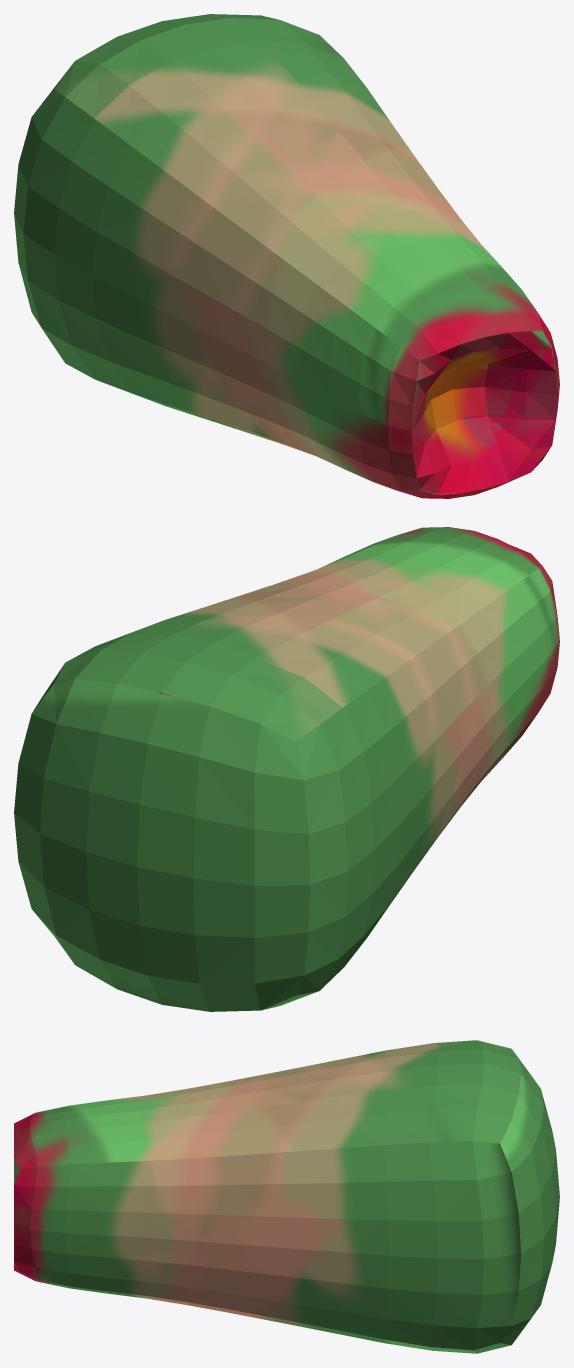
Rendered from tower.obj.
The picture shows the model from 3 angles, top to bottom: view 1: azimuth 30°, elevation 25°; view 2: azimuth 150°, elevation 25°; view 3: azimuth 270°, elevation 25°; orthographic projection. The views are drawn at different scales.
Parts seen in each view (by area): view 1: Cube; view 2: Cube; view 3: Cube.
Boxes of the visible parts, bbox=[...] form: Cube: bbox=[14, 14, 559, 498]; Cube: bbox=[14, 527, 559, 1011]; Cube: bbox=[14, 1040, 559, 1353].
Size of the model in its own units: 0.9857 by 0.9857 by 1.83.
Materials: 1 (1 with a texture image).
